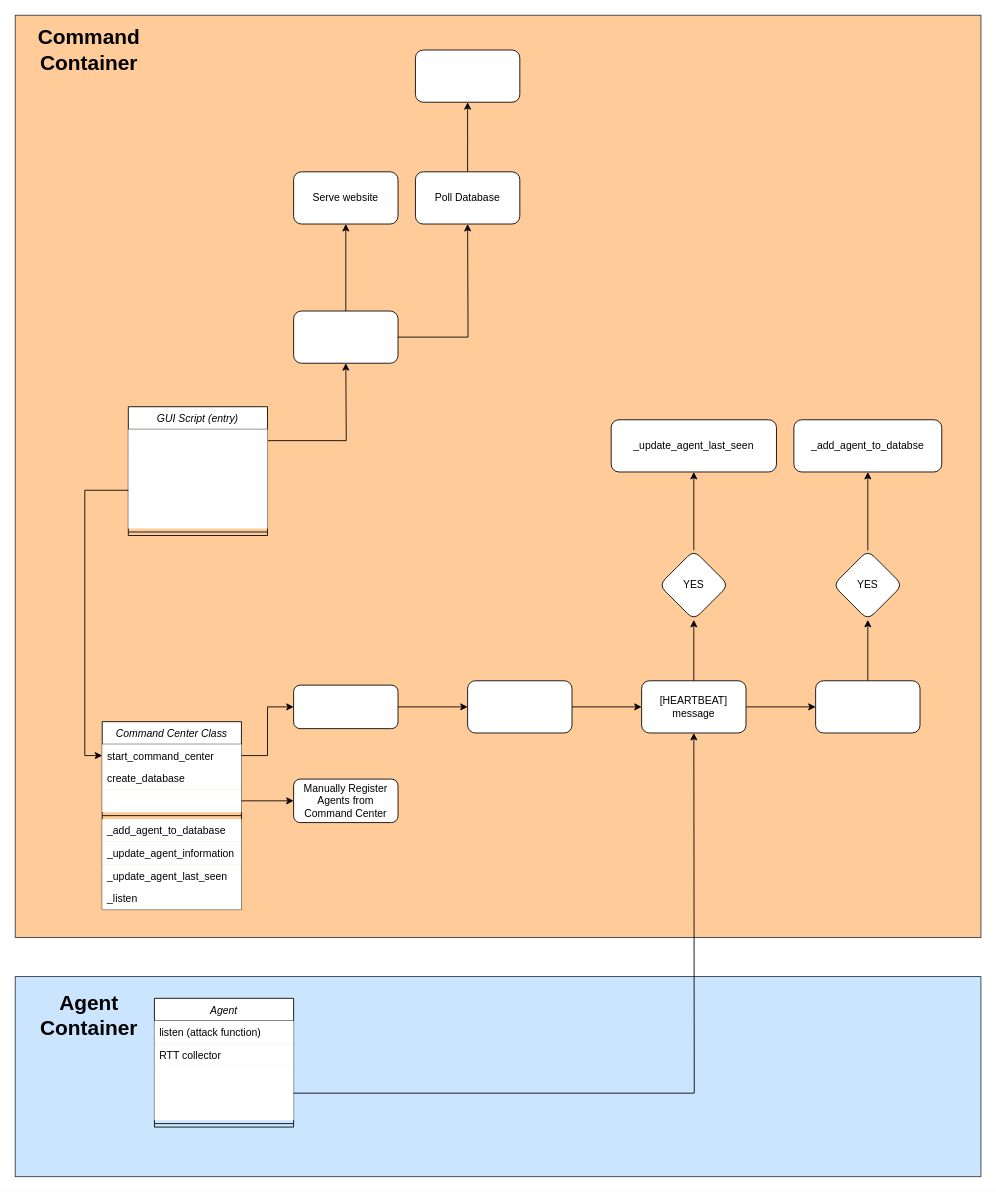
The diagram is 996 pixels wide and 1192 high, and some of its shapes have lost their labels. Here are the shapes that lost their labels. From the top down, the centre of each, then its label:
At [467,75]: "Create Agent List w/ Status".
At [345,336]: "Webserver start".
At [197,440]: "Flask Web Server".
At [197,490]: "Main start function".
At [345,706]: "Start listening on :9191".
At [519,706]: "Receive Message".
At [867,706]: "[REGISTRATION] message".
At [171,800]: "register_agents".
At [223,1093]: "Heartbeat".
